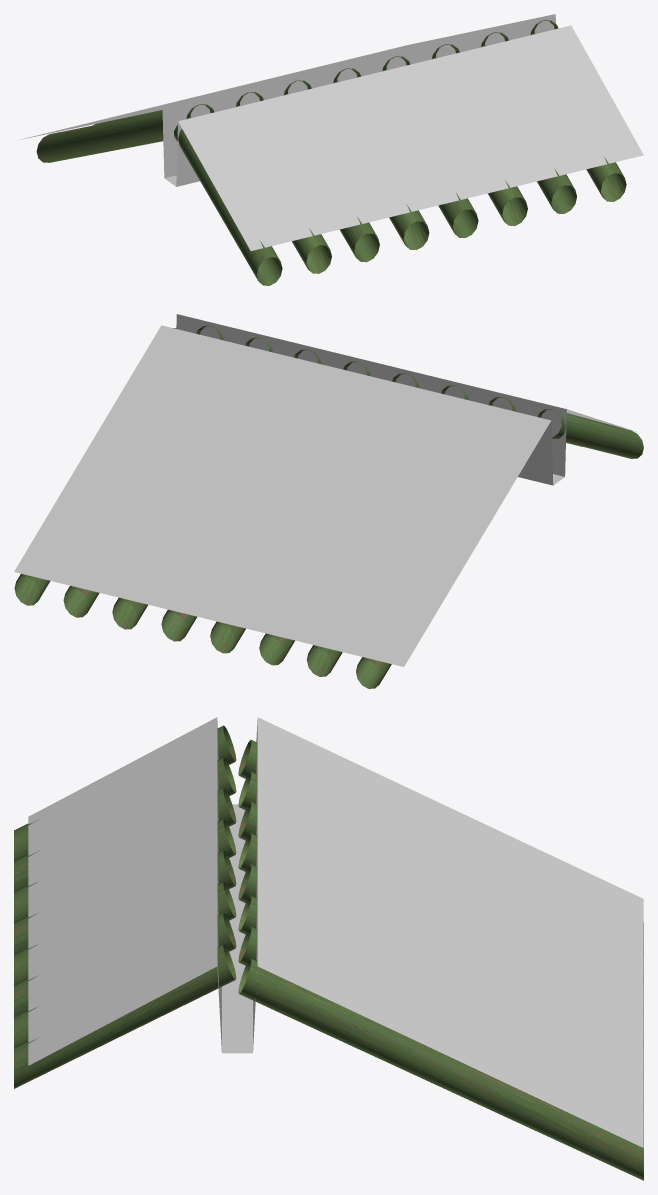
Rendered from SM_Giwa07A_a1.fbx.
3 renders of one model, top to bottom at view 1: azimuth 30°, elevation 25°; view 2: azimuth 150°, elevation 25°; view 3: azimuth 270°, elevation 25°, orthographic. The views are drawn at different scales.
Visible parts, largest first — view 1: SM_Giwa07A_a1; view 2: SM_Giwa07A_a1; view 3: SM_Giwa07A_a1.
Part boxes in pixels (x1,y1,x2,y2): SM_Giwa07A_a1: [16, 14, 643, 285]; SM_Giwa07A_a1: [14, 314, 643, 688]; SM_Giwa07A_a1: [14, 717, 643, 1180].
Bounding box in the file's own units: 245 × 262 × 101.
